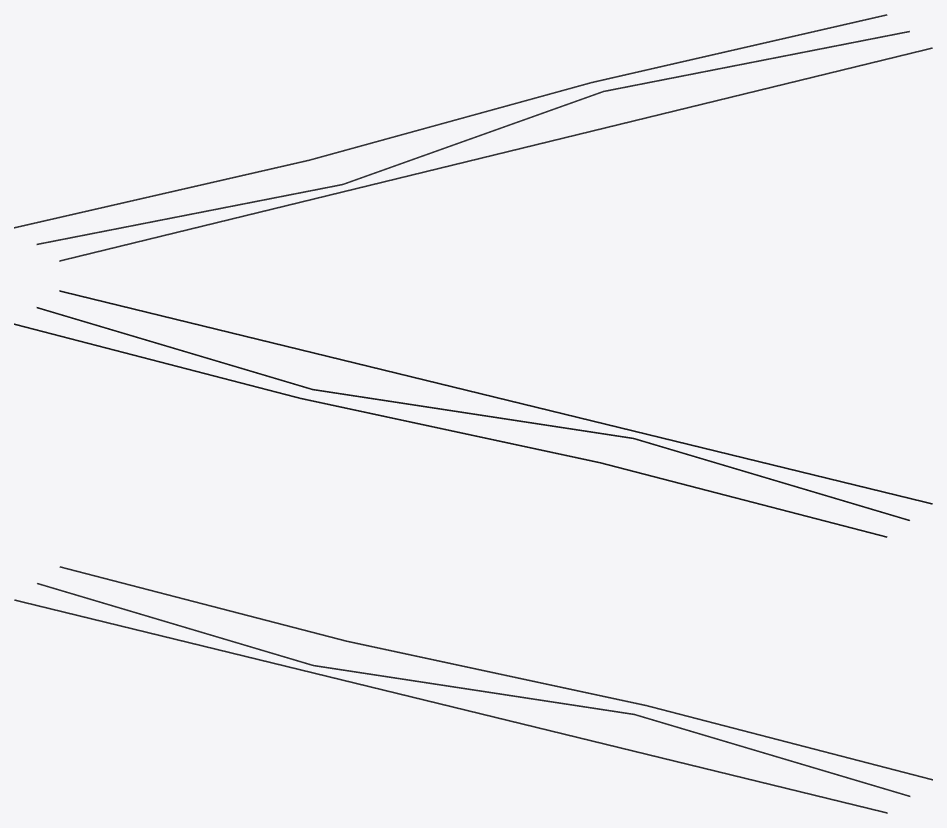
Rendered from power_wire_down_lod1.glb.
3 views of the same model, one above another, from view 1: azimuth 30°, elevation 25°; view 2: azimuth 150°, elevation 25°; view 3: azimuth 330°, elevation 25° (orthographic).
Visible parts, largest first — view 1: power_wire_down_lod1; view 2: power_wire_down_lod1; view 3: power_wire_down_lod1.
Boxes of the visible parts, left/top/right/bottom form: power_wire_down_lod1: left=14, top=14, right=932, bottom=261; power_wire_down_lod1: left=14, top=290, right=932, bottom=537; power_wire_down_lod1: left=14, top=566, right=932, bottom=813.
Size of the model in its own units: 20 by 0.0346 by 2.01.
1 material, 1 textured.
